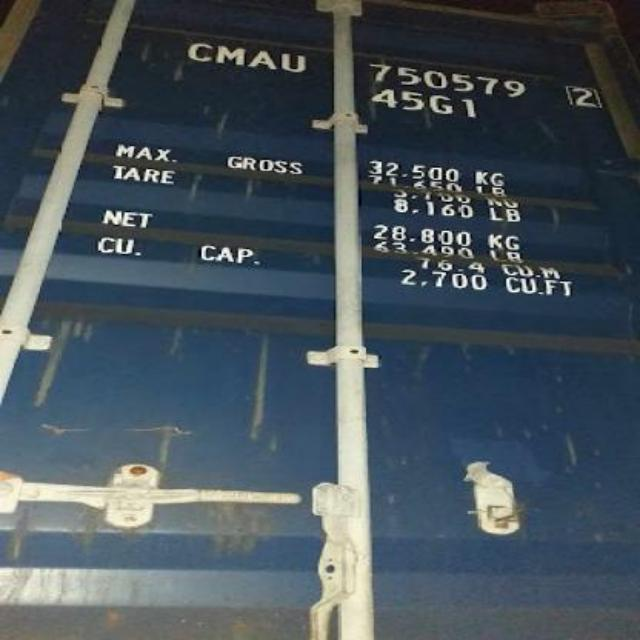0: (422, 65, 450, 91)
2: (566, 87, 602, 107)
5: (398, 63, 424, 87), (450, 68, 476, 92)
7: (364, 59, 394, 82), (478, 73, 502, 94)
9: (504, 74, 530, 100)
A: (250, 46, 276, 70)
C: (182, 40, 218, 61)
M: (212, 42, 248, 68)
U: (280, 50, 308, 72)
